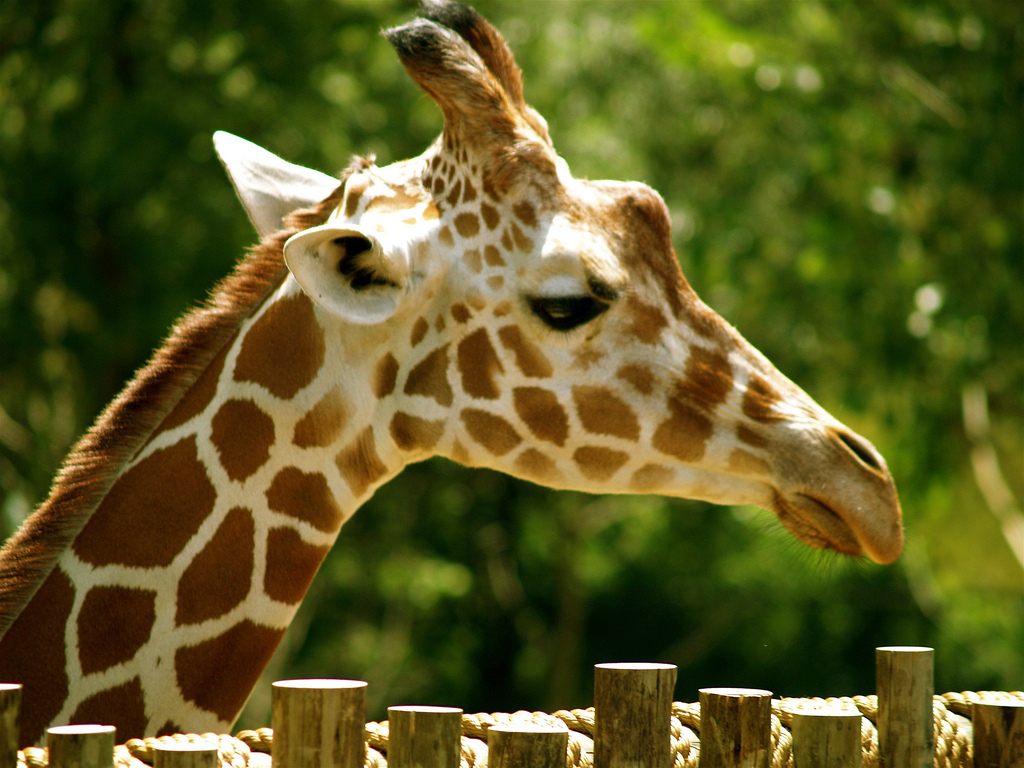giraffe: (47, 14, 918, 677)
